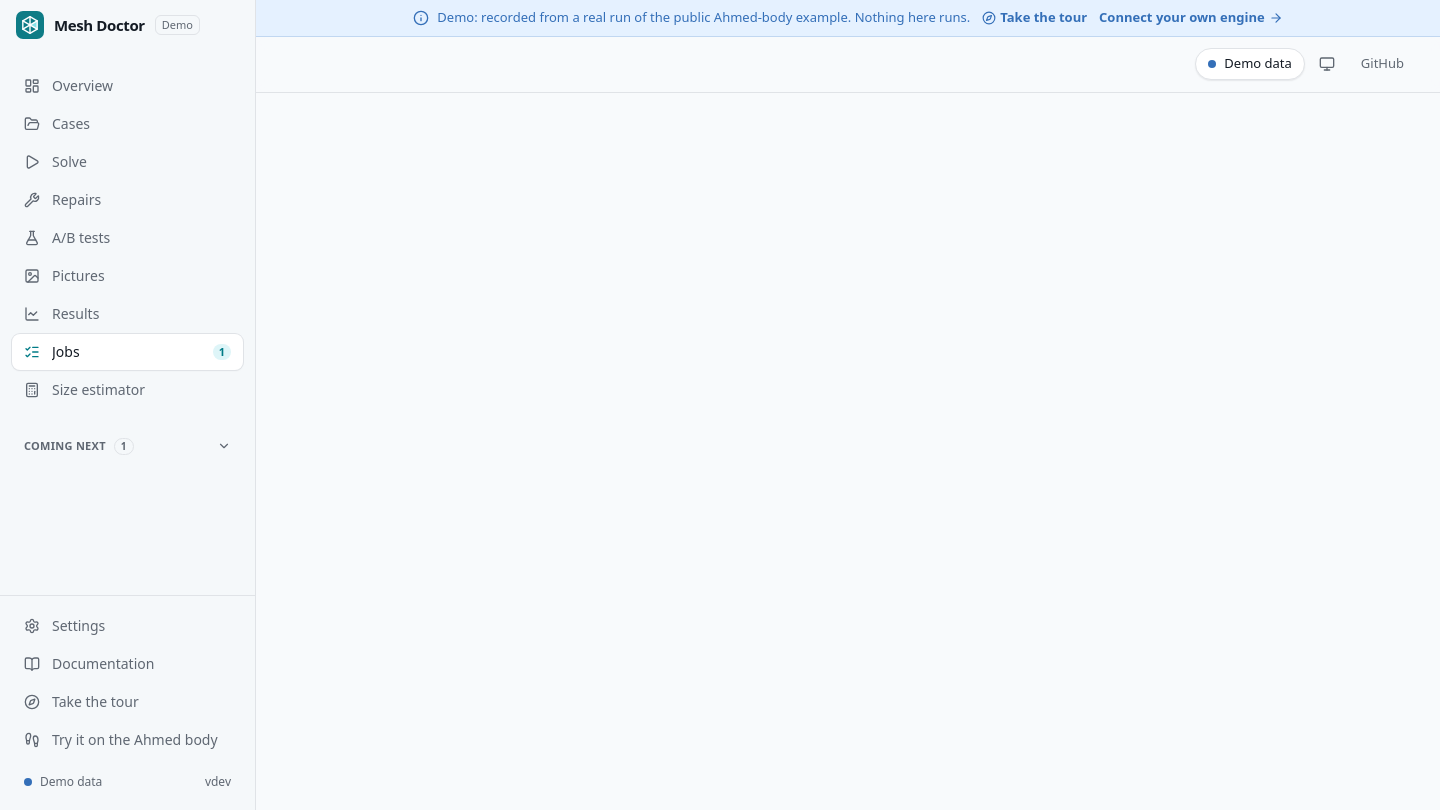
it: the sidebar's Coming next list › opens with a click and stays as it was left in this browser
This screenshot has width=1440, height=810.
Later steps or results of the test are not shown.
Click the button named "Coming next 1 screen".
click(128, 446)  # box top-left (12, 432), bottom-right (243, 460)
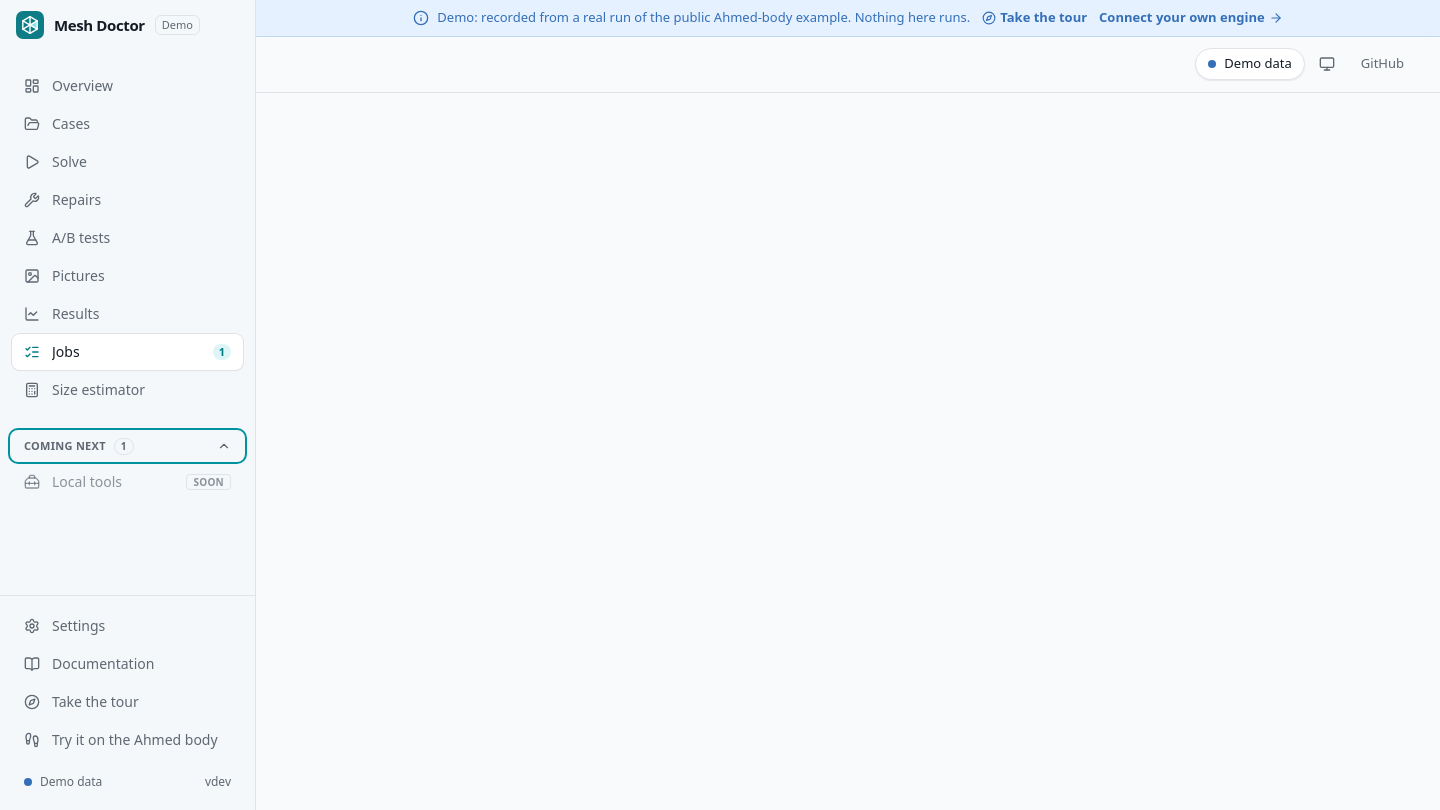
Expected: the button named "Coming next 1 screen" is expanded, top-left (12, 432), bottom-right (243, 460)
Expected: the text "Local tools" is shown, top-left (52, 472), bottom-right (122, 491)
